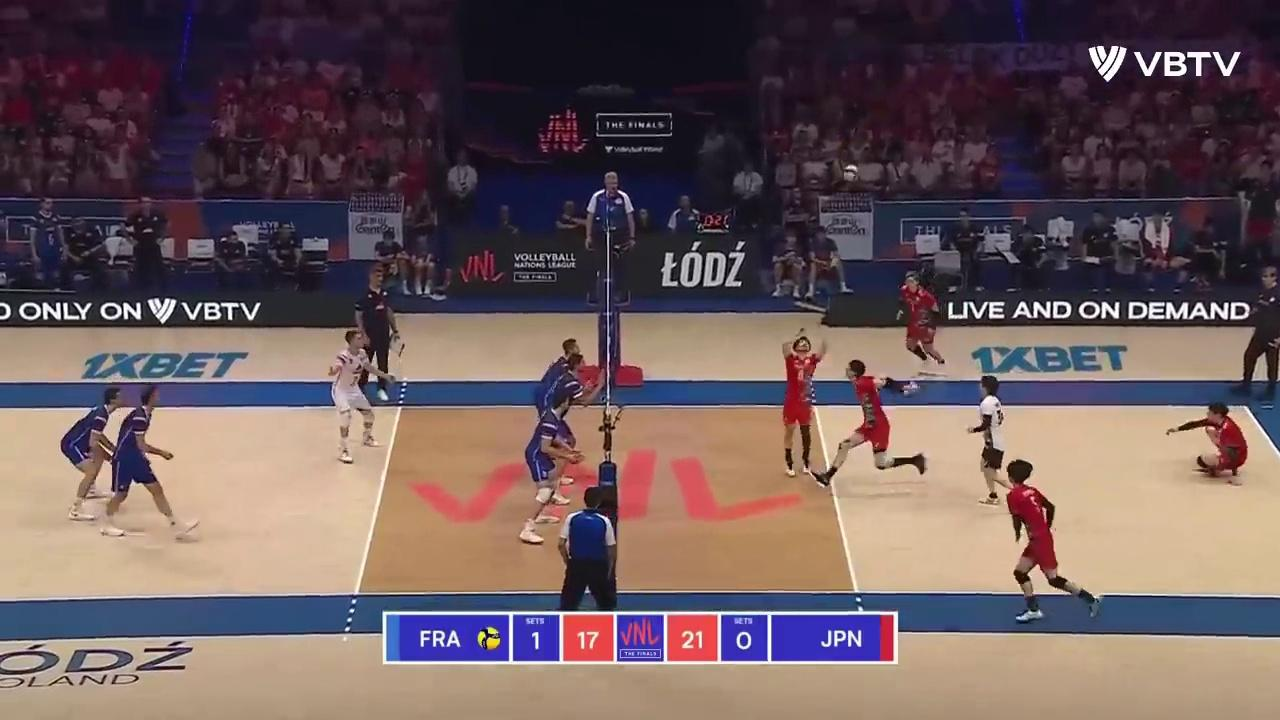ball: (841, 166, 858, 183)
